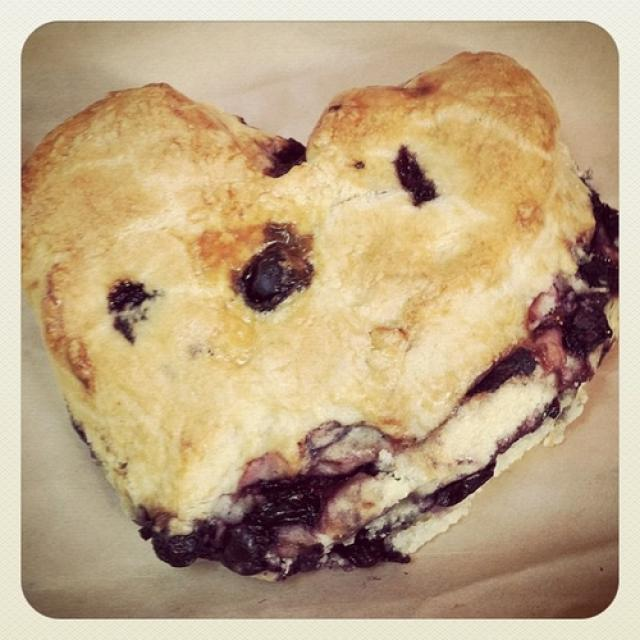面包点心: (32, 47, 605, 581)
